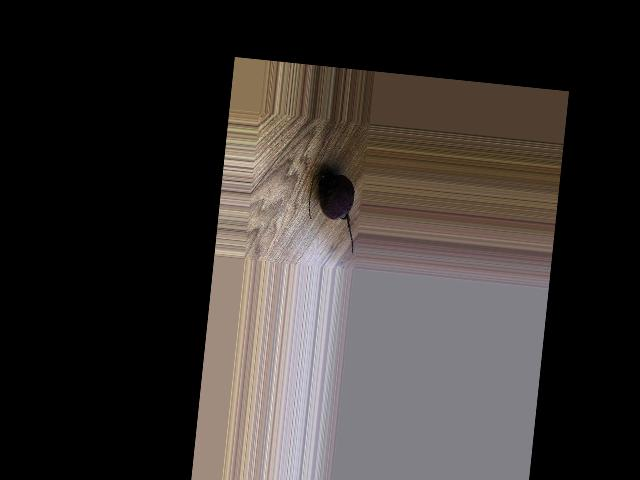beet: (304, 169, 361, 253)
